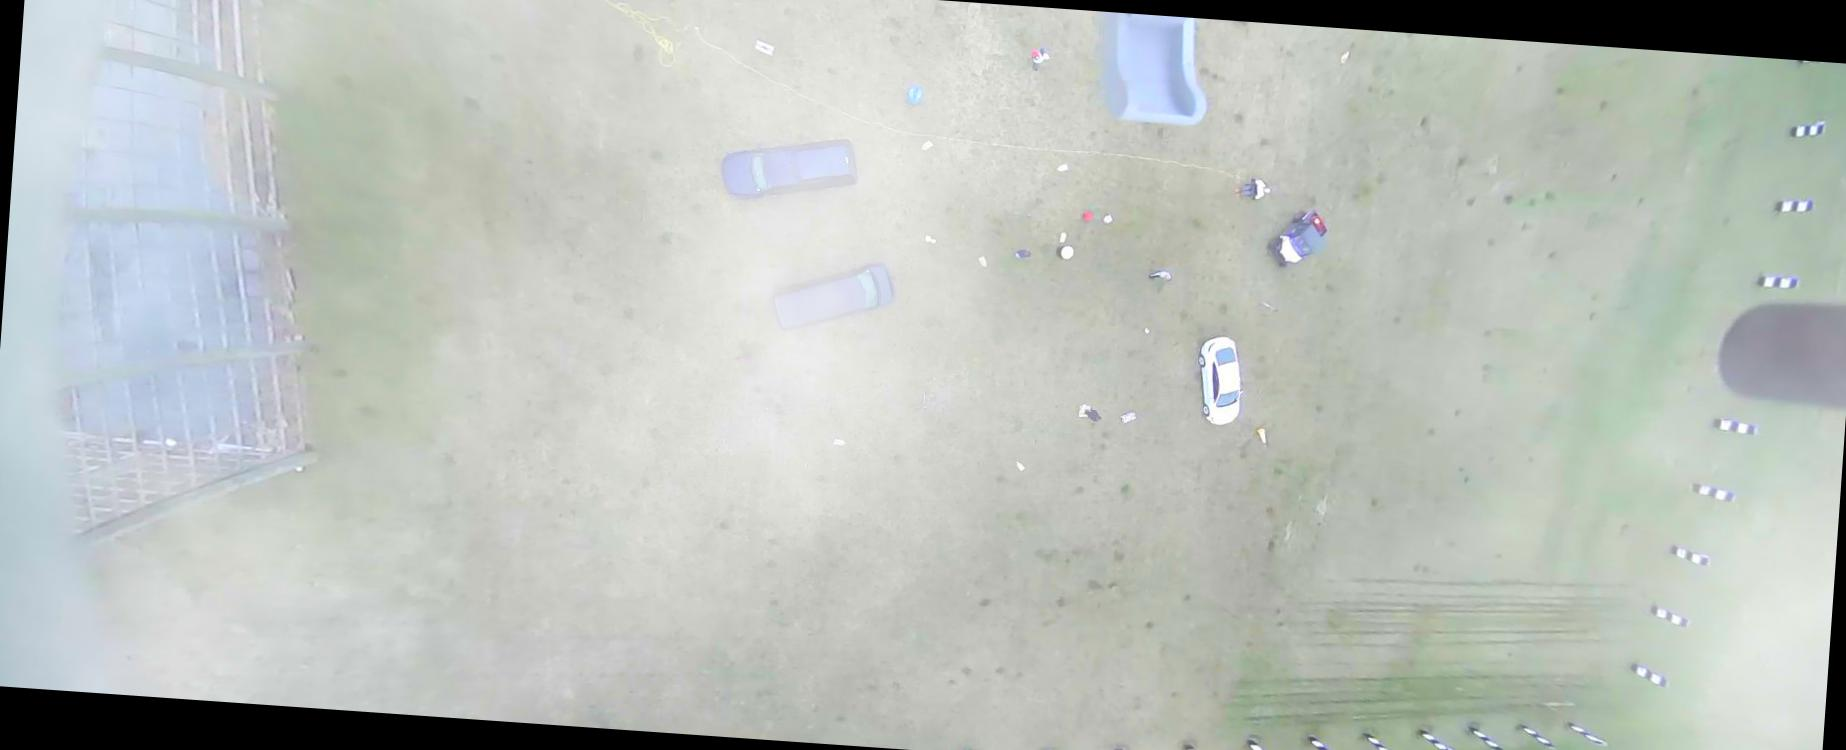vehicle: (717, 130, 862, 210), (770, 254, 898, 338), (1194, 333, 1247, 427), (1264, 205, 1329, 270)
